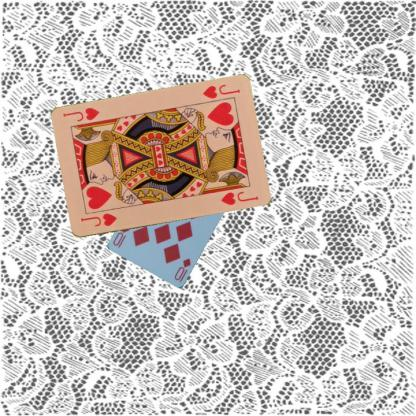10d: (172, 255, 192, 284)
Jh: (199, 82, 241, 101), (78, 211, 118, 228)
